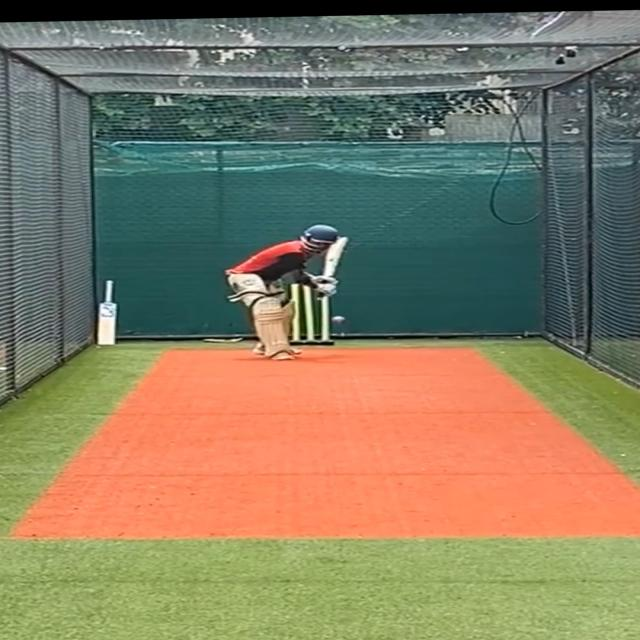ball: (328, 314, 348, 323)
stump: (284, 282, 332, 346)
